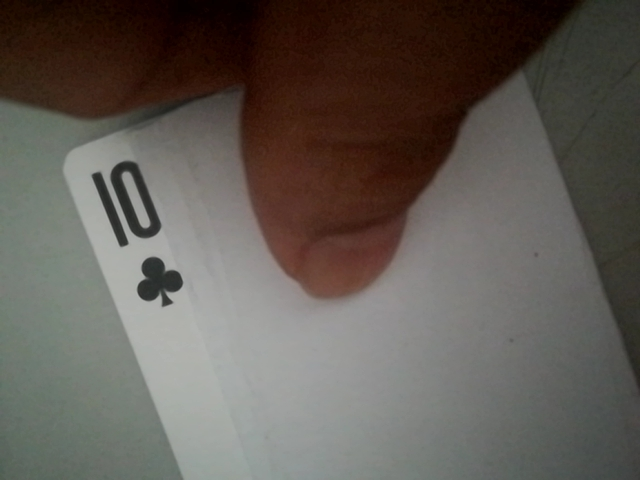mh 10: (83, 151, 203, 313)
